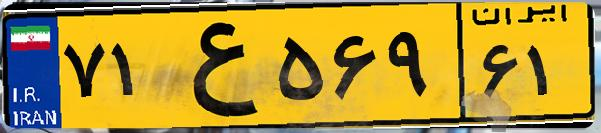1: (525, 38, 570, 115), (110, 28, 158, 98)
5: (270, 28, 330, 110)
6: (330, 28, 385, 110), (475, 38, 525, 113)
7: (57, 26, 110, 100)
9: (385, 28, 445, 110)
ع: (158, 12, 270, 120)
